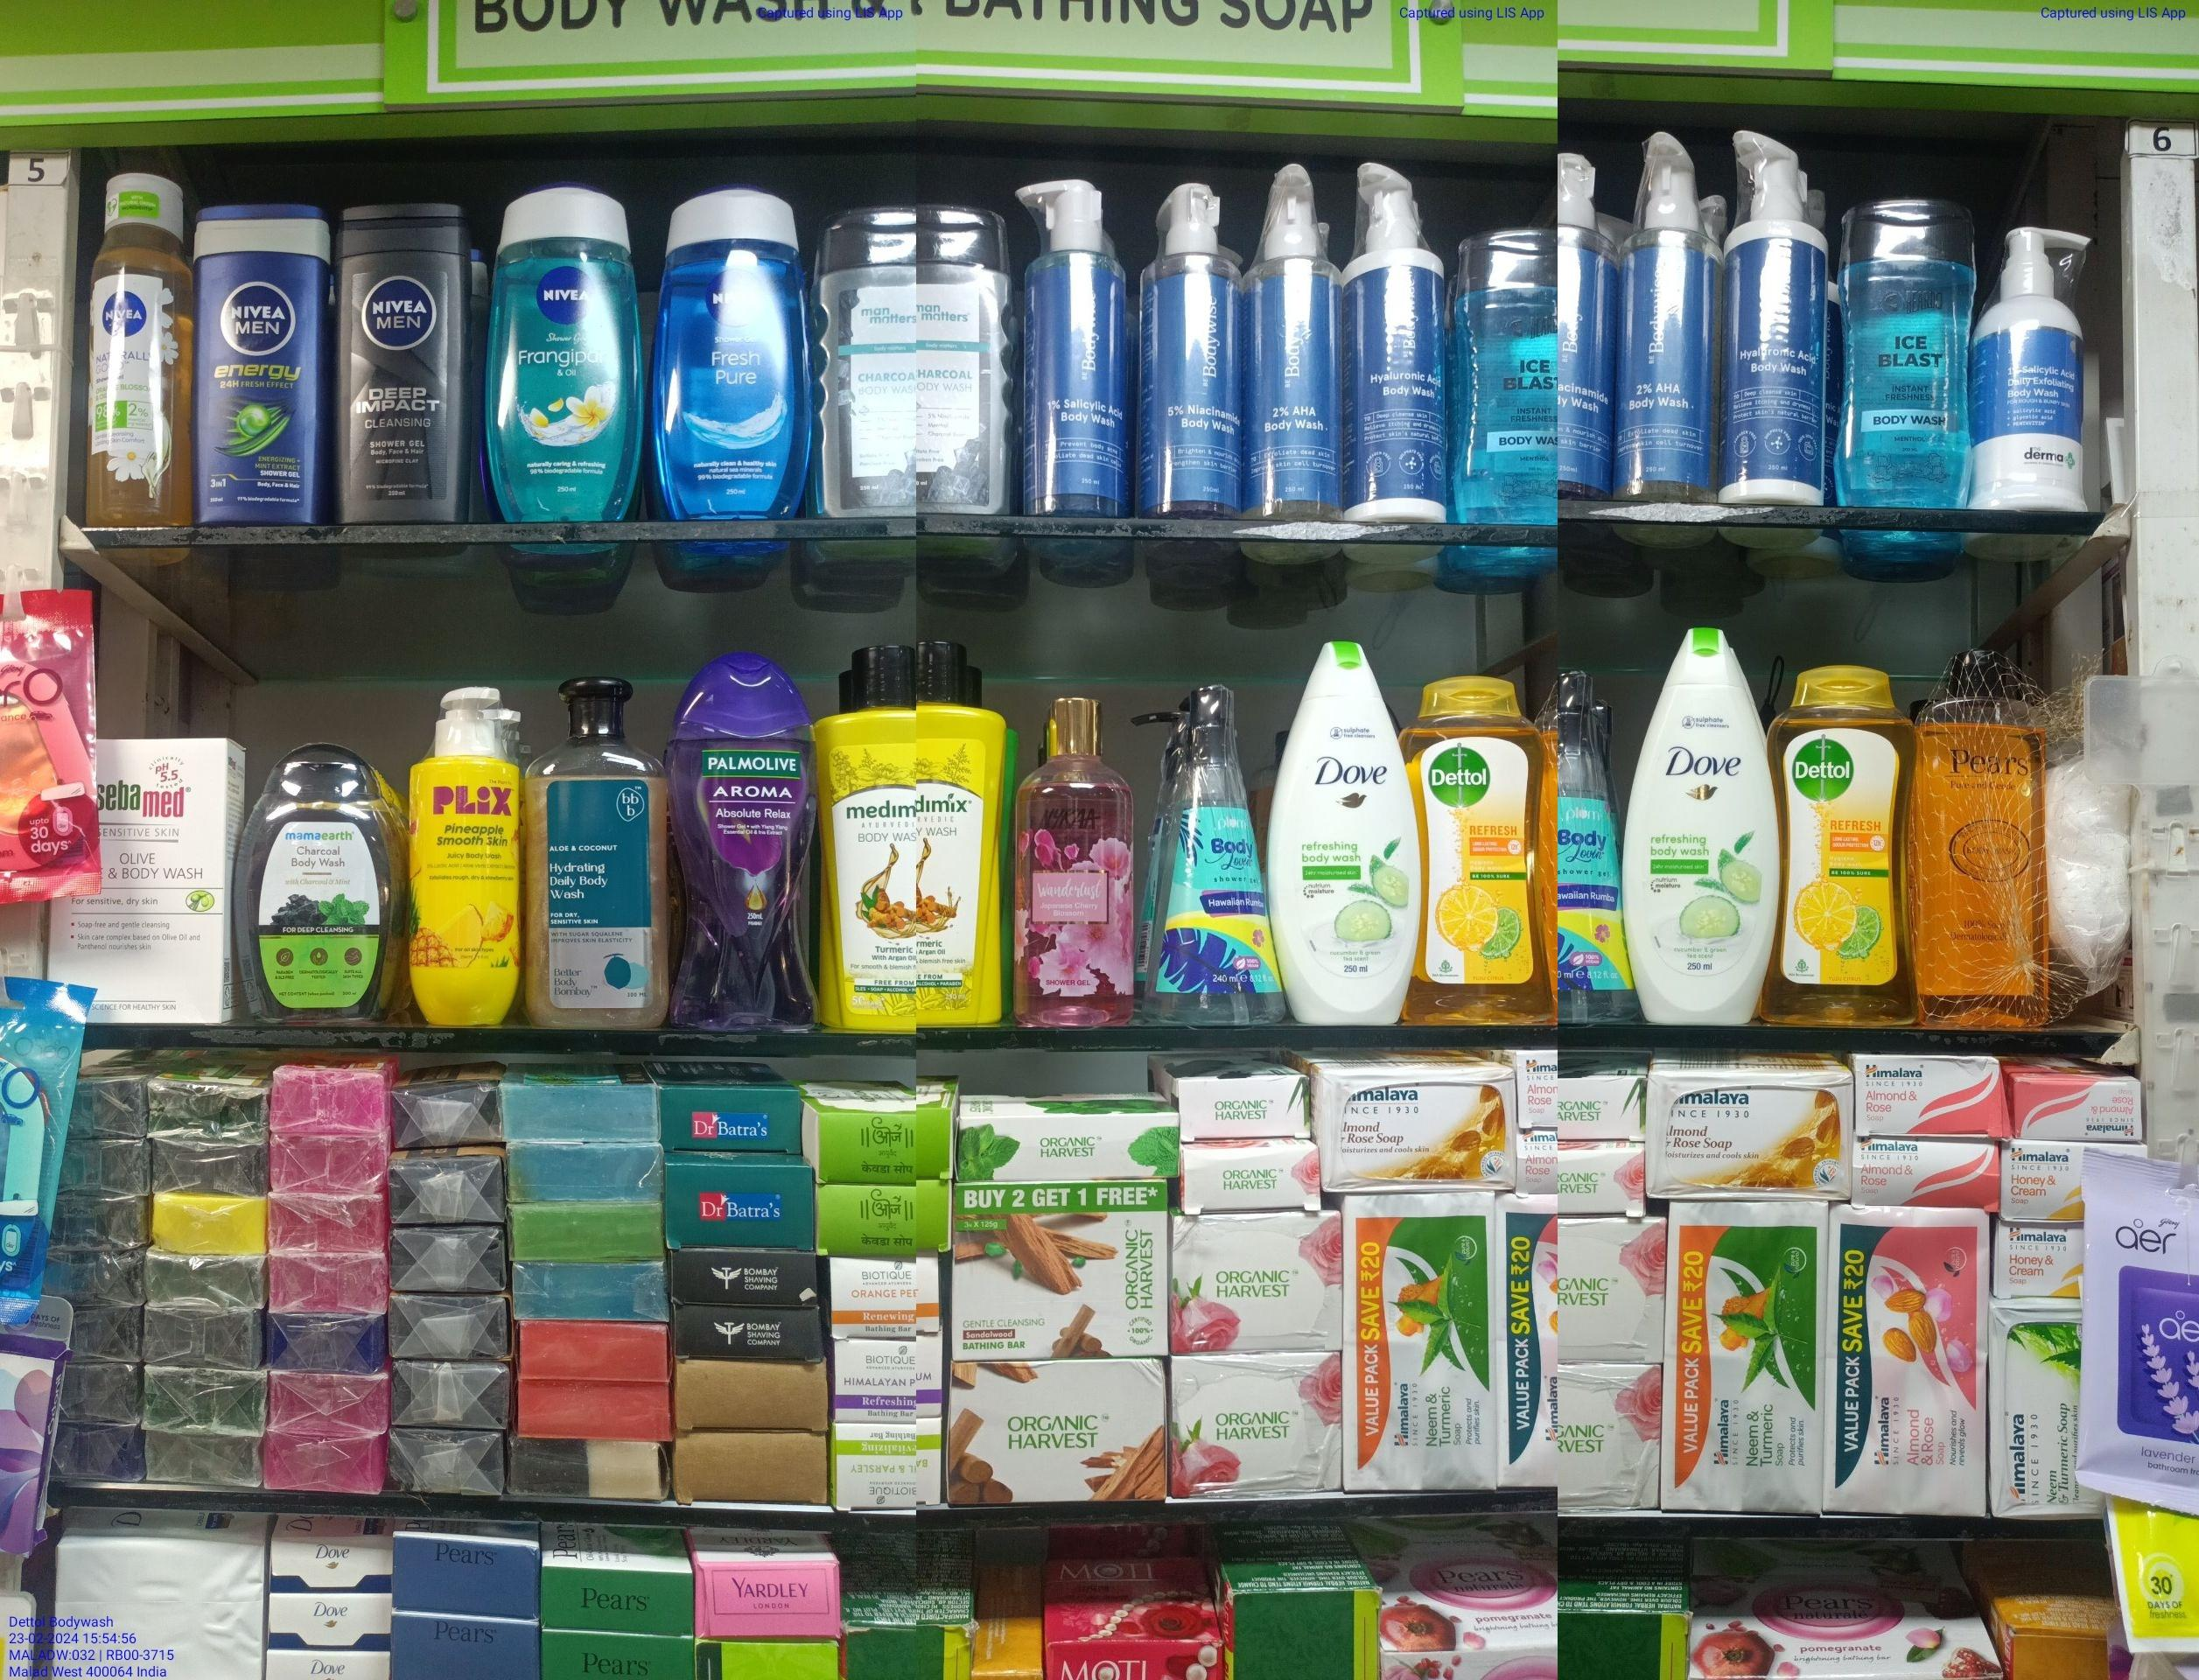Dettol_Bodywash_Refresh: (1770, 667, 1911, 1032), (1415, 676, 1553, 1029)
Dove_Refreshing_Body_Wash_250ML: (1629, 632, 1772, 1024), (1271, 655, 1414, 1022)
Nivea_Shower_Gel_Frangipani_and_Oil_250ML: (484, 191, 641, 517)
Palmolive_Aroma_Relax_250ML: (665, 665, 819, 1029)
